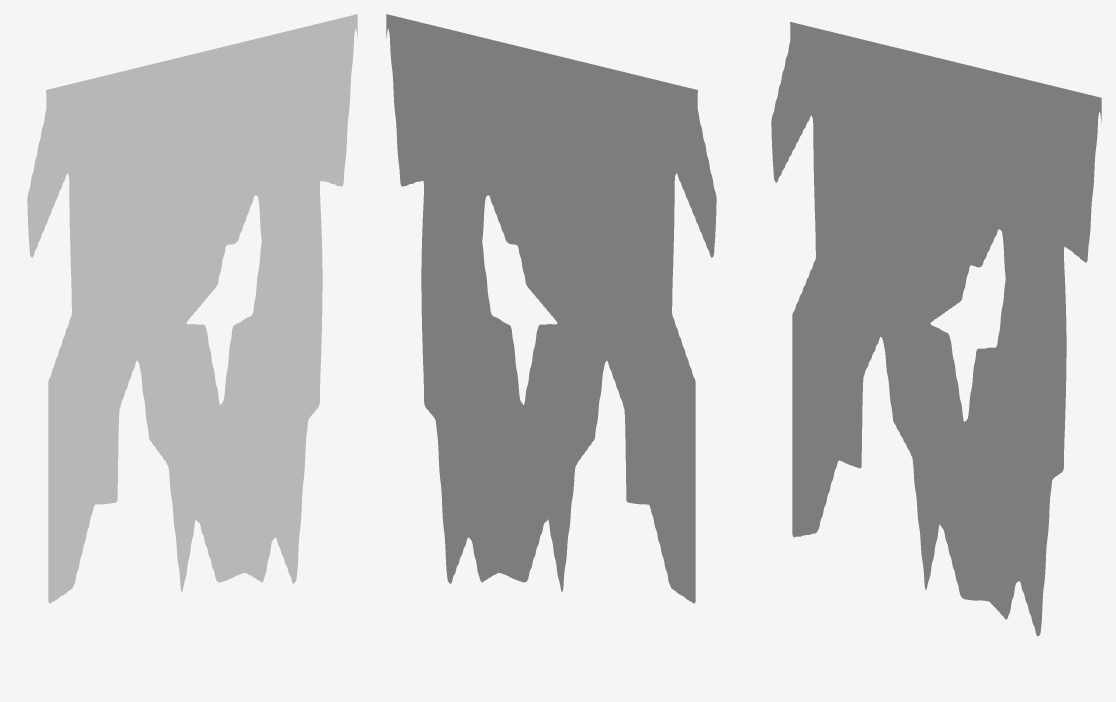
Rendered from SM_Prop_Flag_Piece_03.fbx.
3 views of the same model, side by side, from view 1: azimuth 30°, elevation 25°; view 2: azimuth 150°, elevation 25°; view 3: azimuth 330°, elevation 25° (orthographic).
Visible parts, largest first — view 1: SM_Prop_Flag_Piece_03; view 2: SM_Prop_Flag_Piece_03; view 3: SM_Prop_Flag_Piece_03.
Part boxes in pixels (left/top/right/bottom): SM_Prop_Flag_Piece_03: left=27, top=14, right=357, bottom=603; SM_Prop_Flag_Piece_03: left=386, top=14, right=716, bottom=603; SM_Prop_Flag_Piece_03: left=771, top=22, right=1101, bottom=636.
Bounding box in the file's own units: 55.14 × 90.49 × 0.
